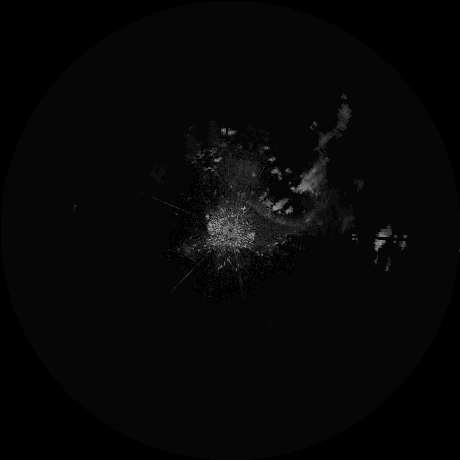frontgust: (244, 203, 305, 227)
